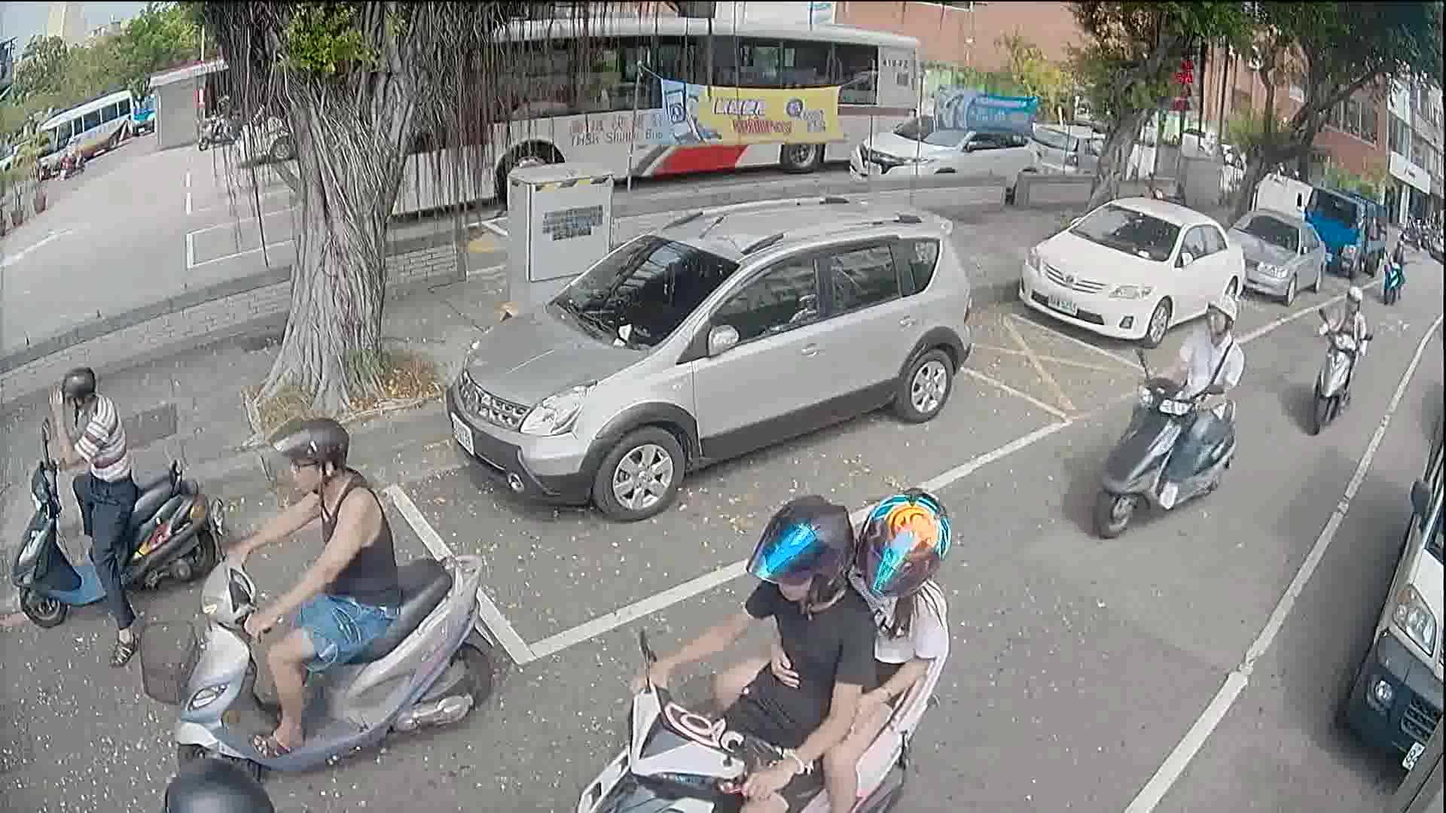person: (709, 492, 947, 812), (636, 498, 876, 806), (214, 423, 403, 769), (39, 368, 146, 661), (1127, 295, 1240, 511), (1310, 285, 1371, 413), (158, 754, 279, 810), (1387, 236, 1406, 296), (212, 94, 227, 129), (64, 139, 75, 159)
